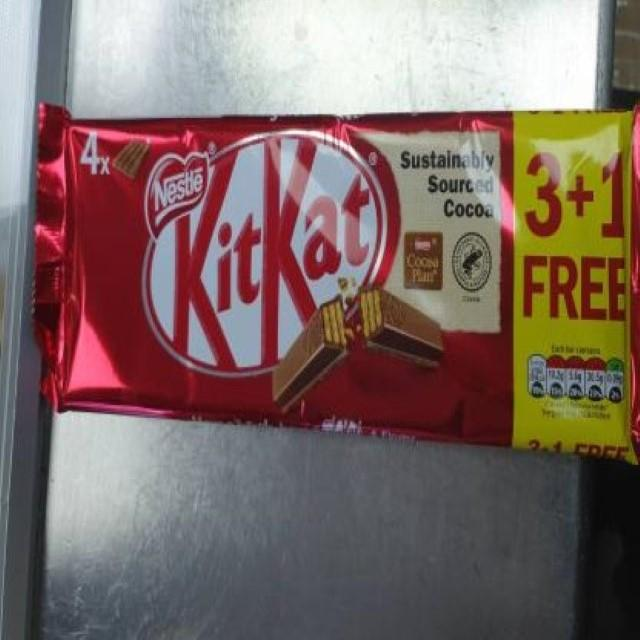kitkat_chocolate: (60, 104, 622, 448)
